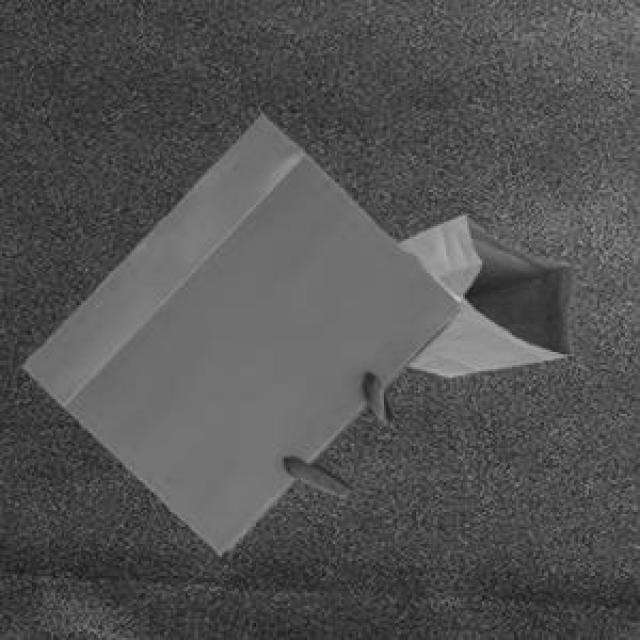paper: (19, 111, 457, 550), (396, 211, 572, 373)
